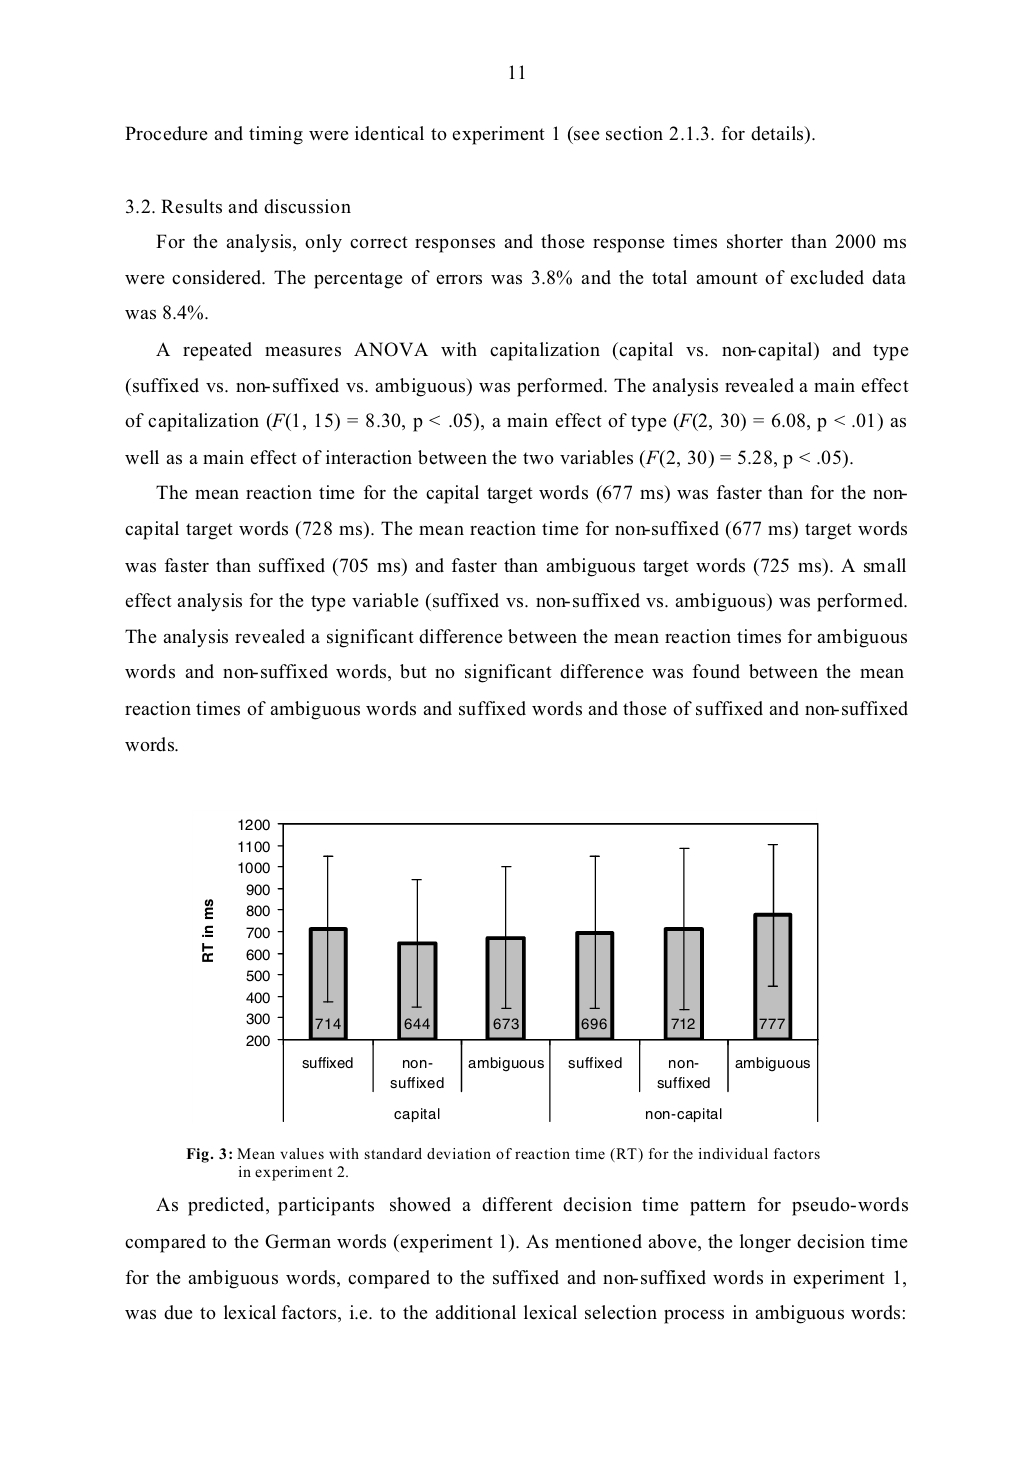figure: (202, 818, 818, 1122)
